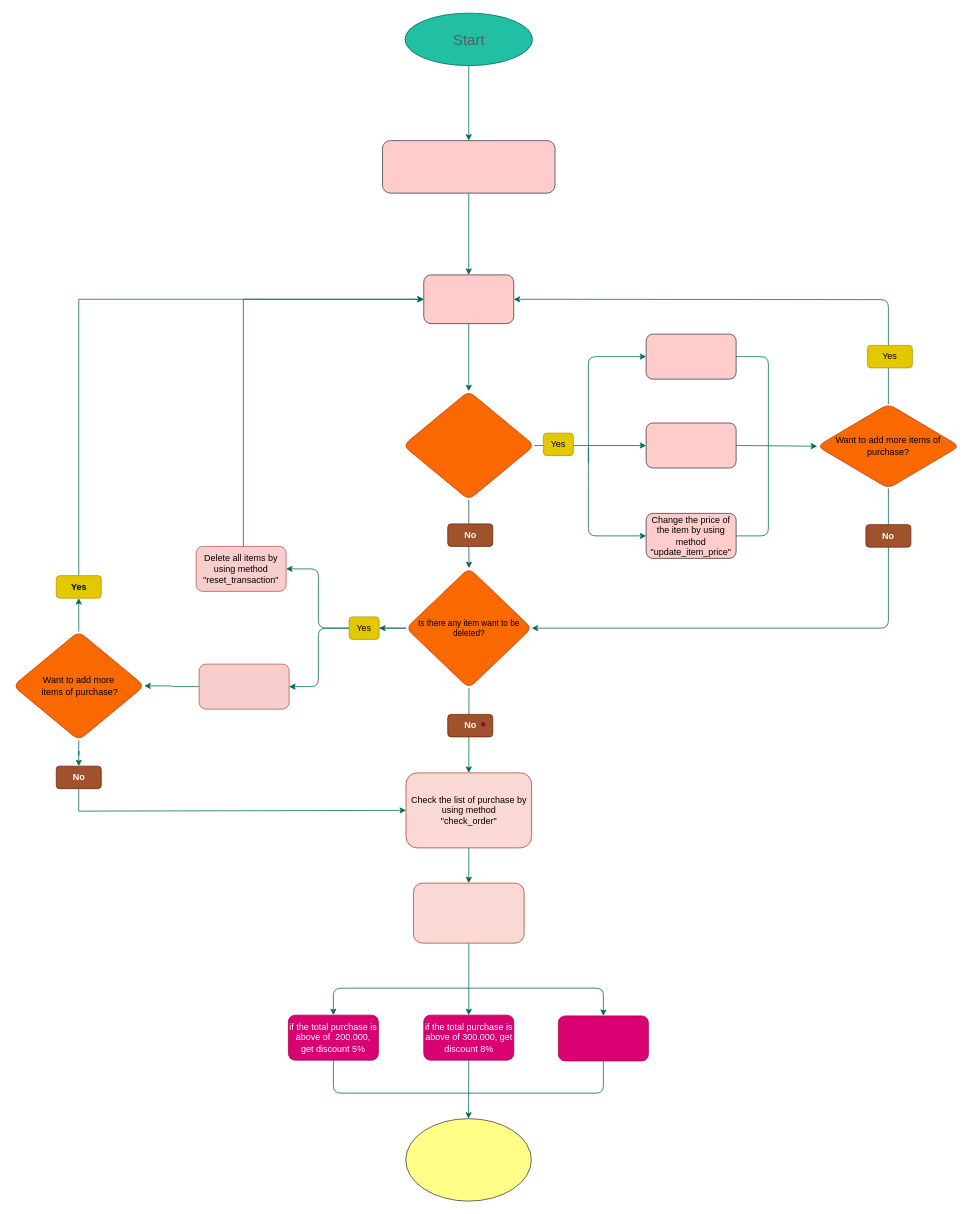
Some shapes in this 973 by 1214 pixel diagram are drawn without their labels. The centre of each missing label's shape, as x and y in pixels:
Appending item by using "add_item": (468,299)
Change the name of item by using method "update_item_name": (690,356)
Change the quantity of the item by using method "update_item_qty": (690,445)
Count the total purchase by using method "total_price": (468,912)
Creating object from Class Transaction, e.g. "trnsct_123 = Transaction()": (468,166)
Delete one of the item by using method "delete_item": (243,686)
END: (468,1159)
if tthe total purchase is above of 500.000, get discount 10%: (603,1038)
Is there any item want to be changed, if there is any mistake?: (468,445)
